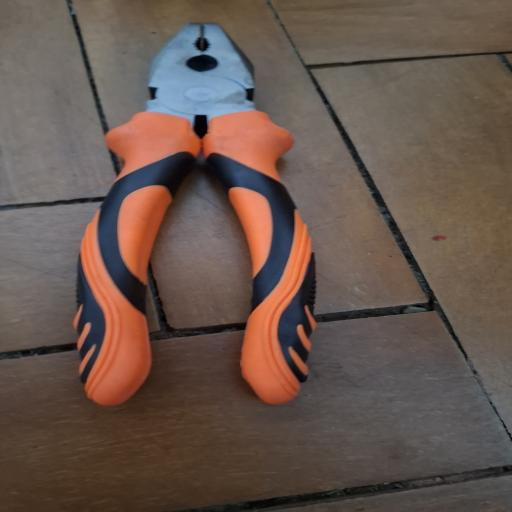alicate: (71, 21, 318, 437)
